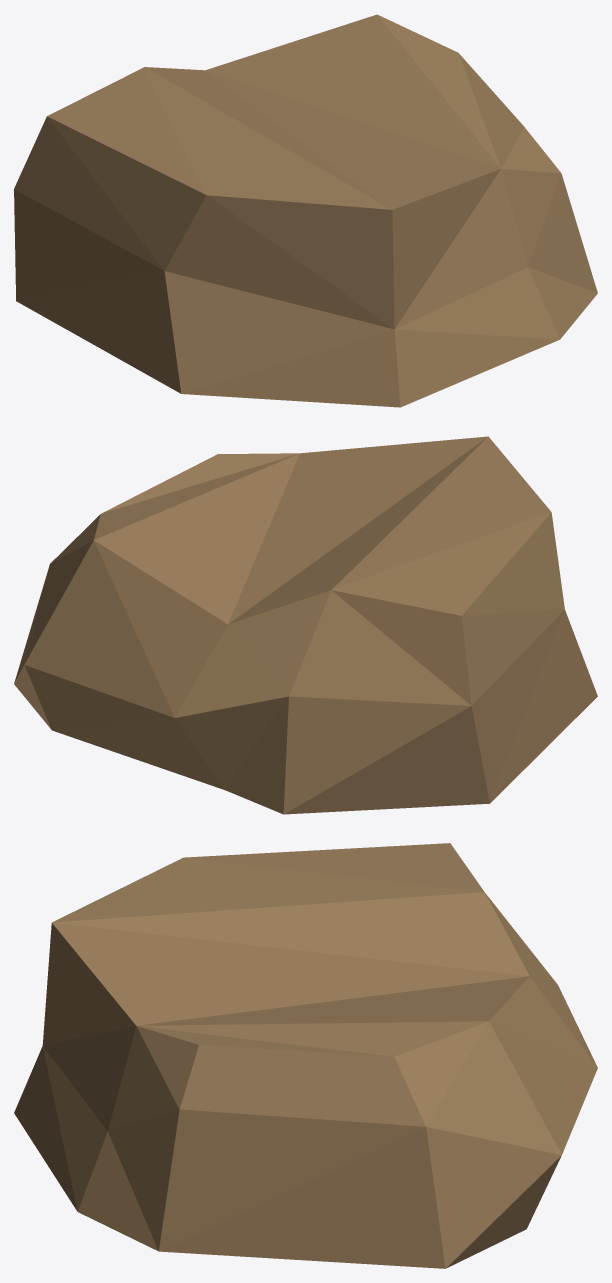
Rendered from rock_flat.glb.
3 views of the same model, one above another, from view 1: azimuth 30°, elevation 25°; view 2: azimuth 150°, elevation 25°; view 3: azimuth 270°, elevation 25° (orthographic). The views are drawn at different scales.
Parts seen in each view (by area): view 1: SM_Env_Rock_01; view 2: SM_Env_Rock_01; view 3: SM_Env_Rock_01.
Boxes of the visible parts, left/top/right/bottom form: SM_Env_Rock_01: left=14, top=14, right=597, bottom=407; SM_Env_Rock_01: left=14, top=436, right=597, bottom=814; SM_Env_Rock_01: left=14, top=843, right=597, bottom=1268.
Bounding box in the file's own units: 32.96 × 12.44 × 32.59.
Materials: 1 (1 with a texture image).
